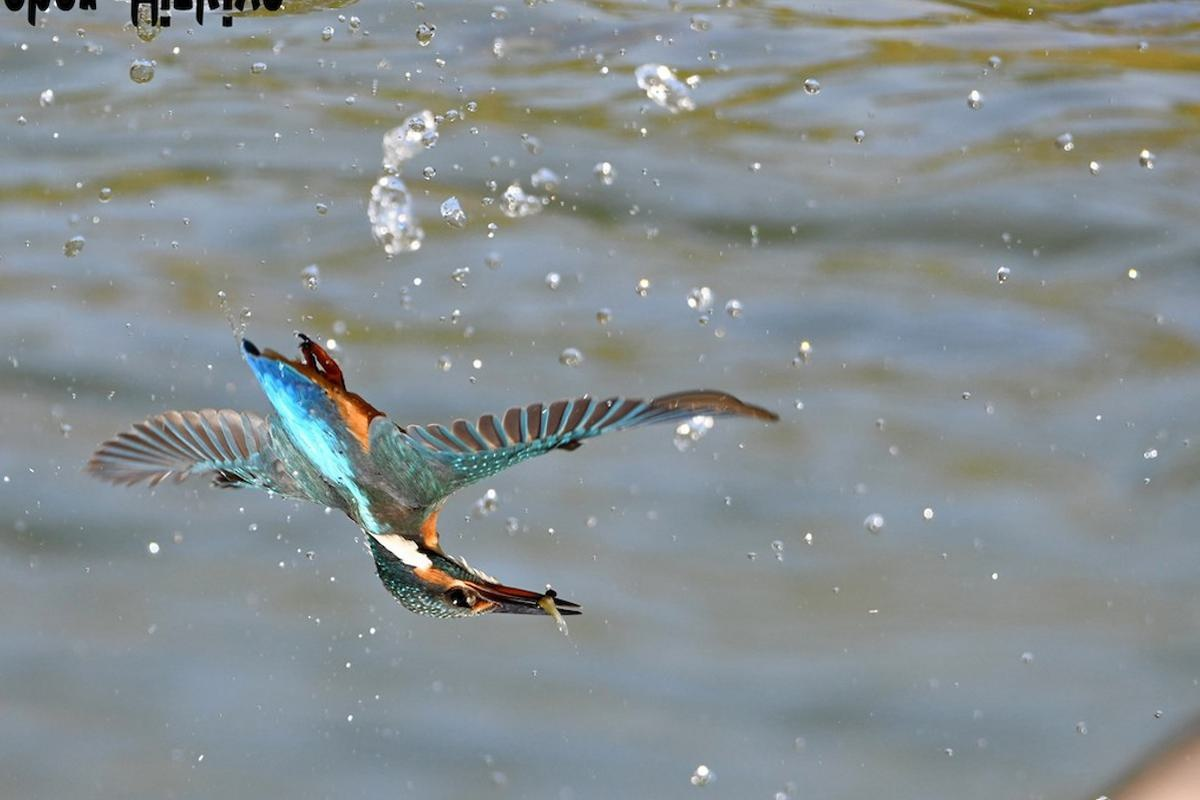kingfisher: (83, 332, 796, 634)
